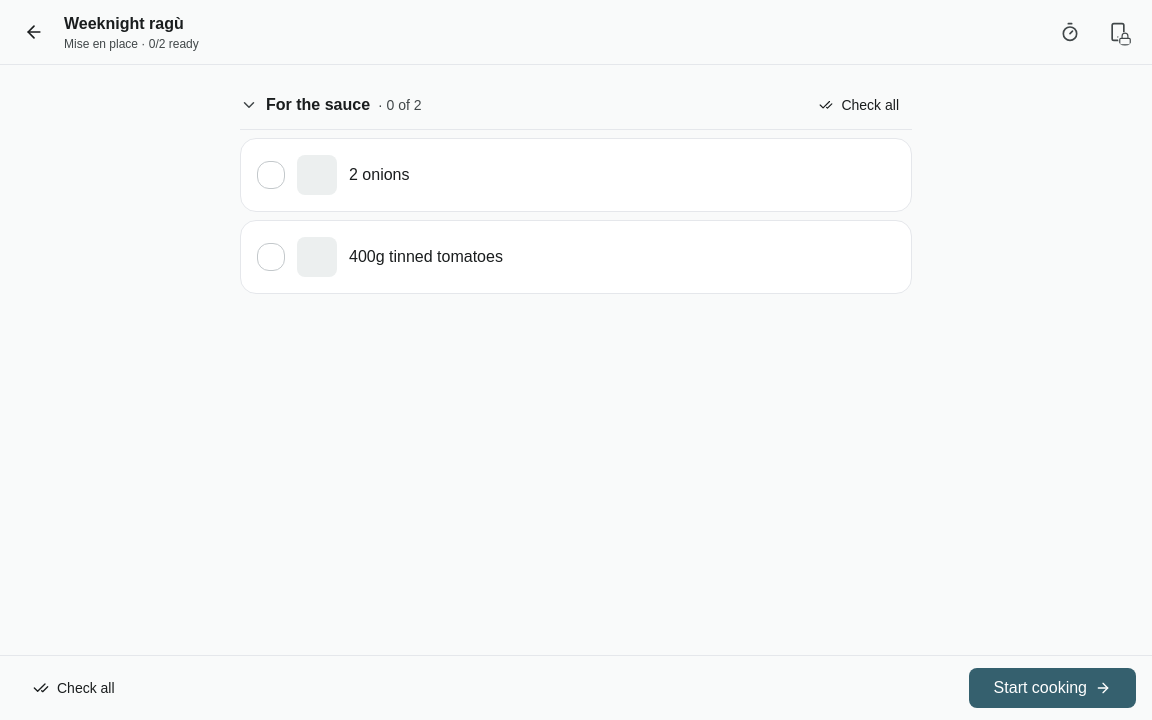
Test: CookModePage — starting a cook › opens on mise en place, and moves to the guided steps on demand
Expected: the number of buttons with test id "cook-mise-row" is 2, [240,138,912,212]; [240,220,912,294]
Expected: the text with test id "cook-mode-title" reads "Weeknight ragù", [64,15,184,32]
Step 1. Click the button with test id "cook-stage-toggle" → (1052, 688), box [969,668,1136,708]
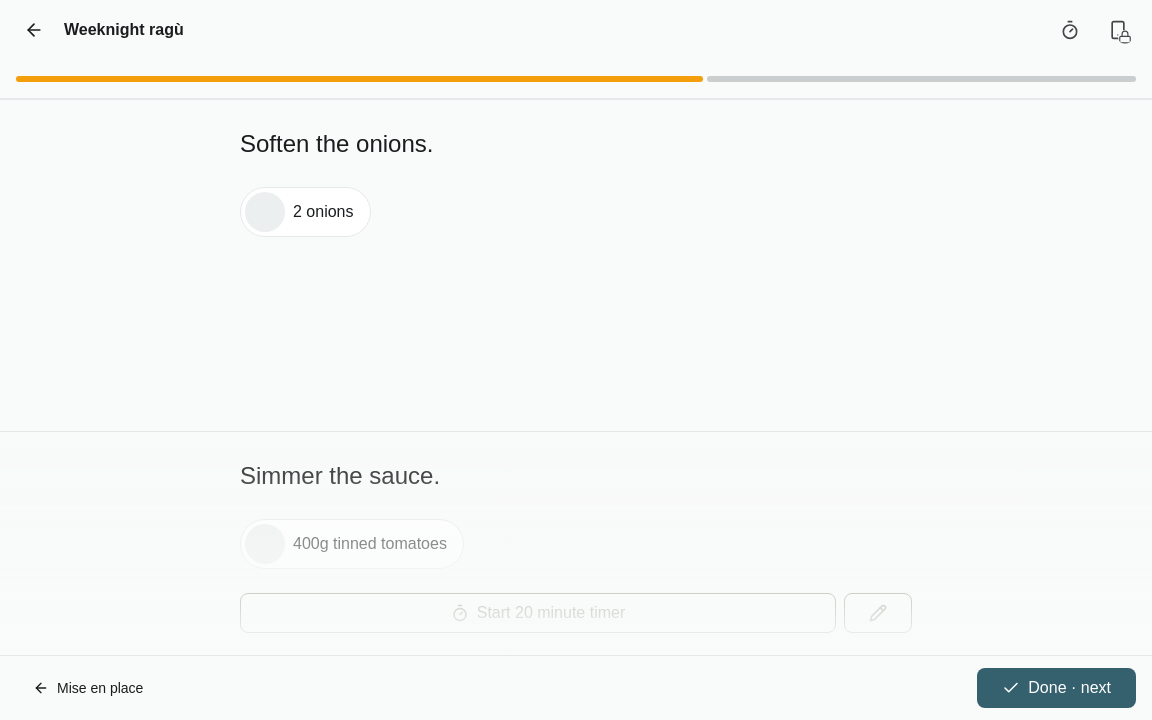
Expected: the element with test id "cook-steps-view" is shown
Expected: the element with test id "cook-timeline" is shown, [0,60,1151,99]
Expected: the button with test id "cook-mise-row" is gone
